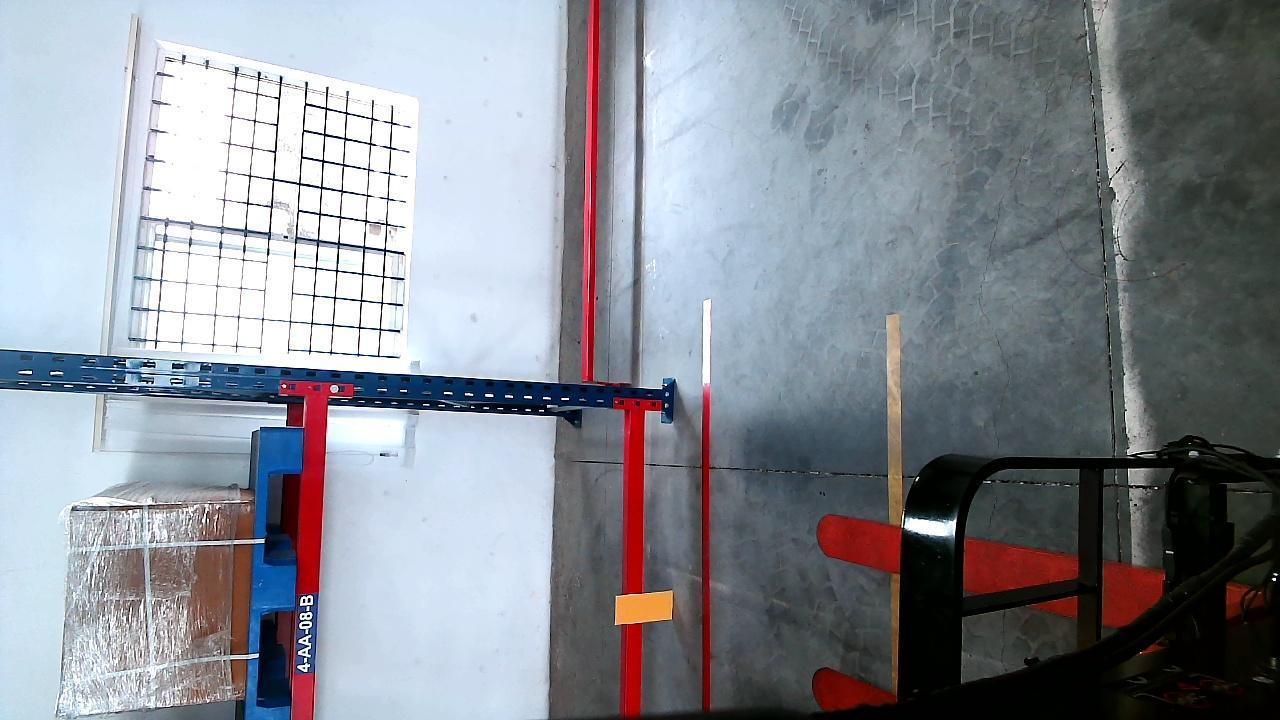h_rack: (290, 406, 328, 715), (621, 401, 650, 716)
orange_strip: (617, 590, 673, 623)
red_line: (695, 302, 716, 715)
small_pallet: (246, 435, 301, 720)
yellow_line: (886, 315, 903, 542)
